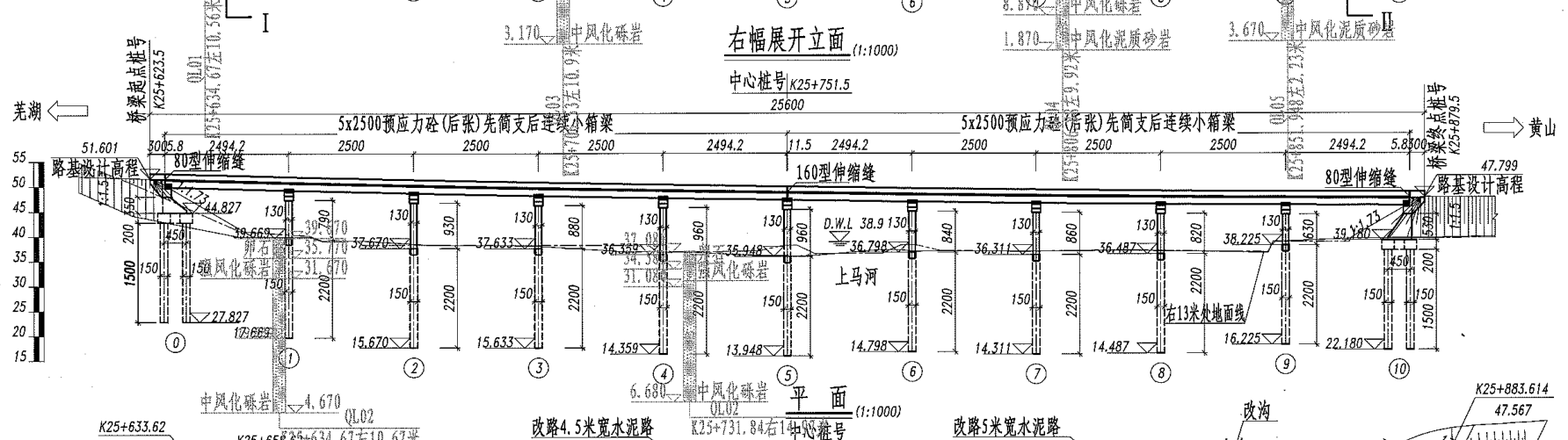A: (140, 98, 1433, 123)
B: (781, 111, 1418, 141), (161, 113, 802, 142)
C: (844, 193, 930, 387), (1329, 224, 1430, 385), (971, 194, 1052, 389), (722, 192, 802, 389), (1095, 196, 1176, 387), (351, 186, 429, 383), (477, 189, 556, 383), (1219, 198, 1302, 379), (604, 191, 677, 386), (254, 184, 303, 371)
D: (816, 206, 894, 249)
